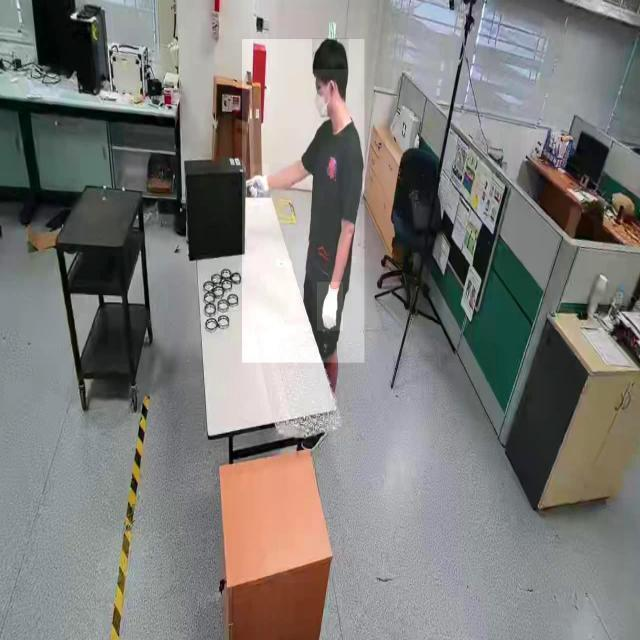gloves: (316, 282, 344, 332), (247, 163, 269, 206)
